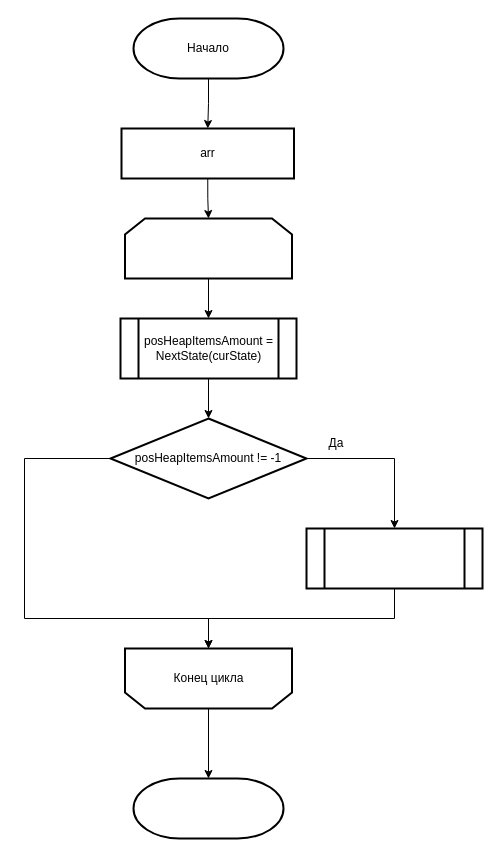
This 501x856 diagram has some shape labels left out. The centre of each missing label's shape, as x and y in pixels:
"shiftDown(arr, posHeapItemsAmount, i)" belongs at (x=394, y=558).
"Конец" belongs at (x=208, y=808).
"Цикл i от 0 до arr.Lenght()" belongs at (x=208, y=248).
